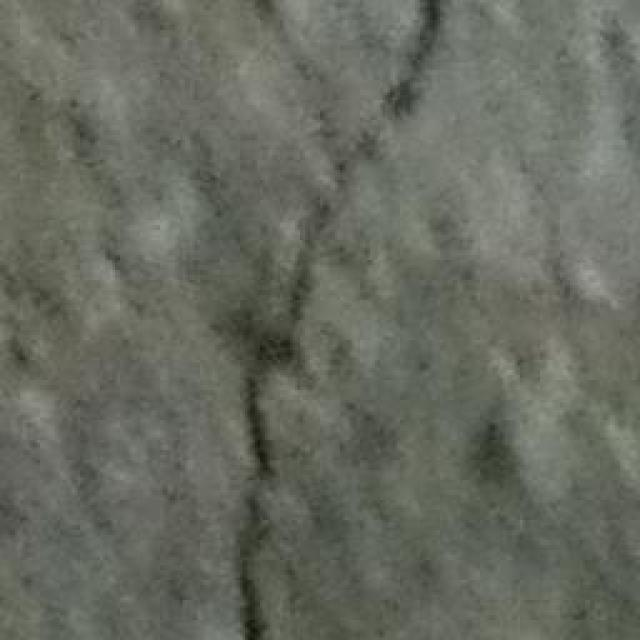Longitudinal: (213, 0, 438, 640)
